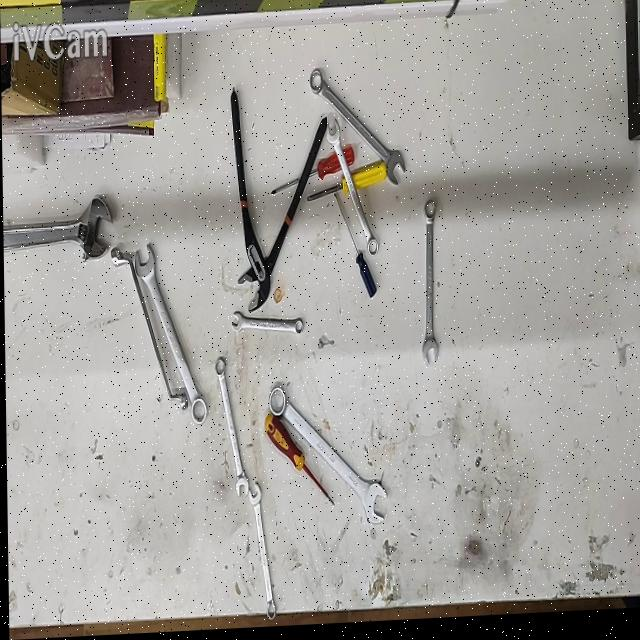Screwdriver: (264, 414, 332, 512), (334, 195, 376, 302), (270, 150, 354, 197), (307, 164, 386, 205)
